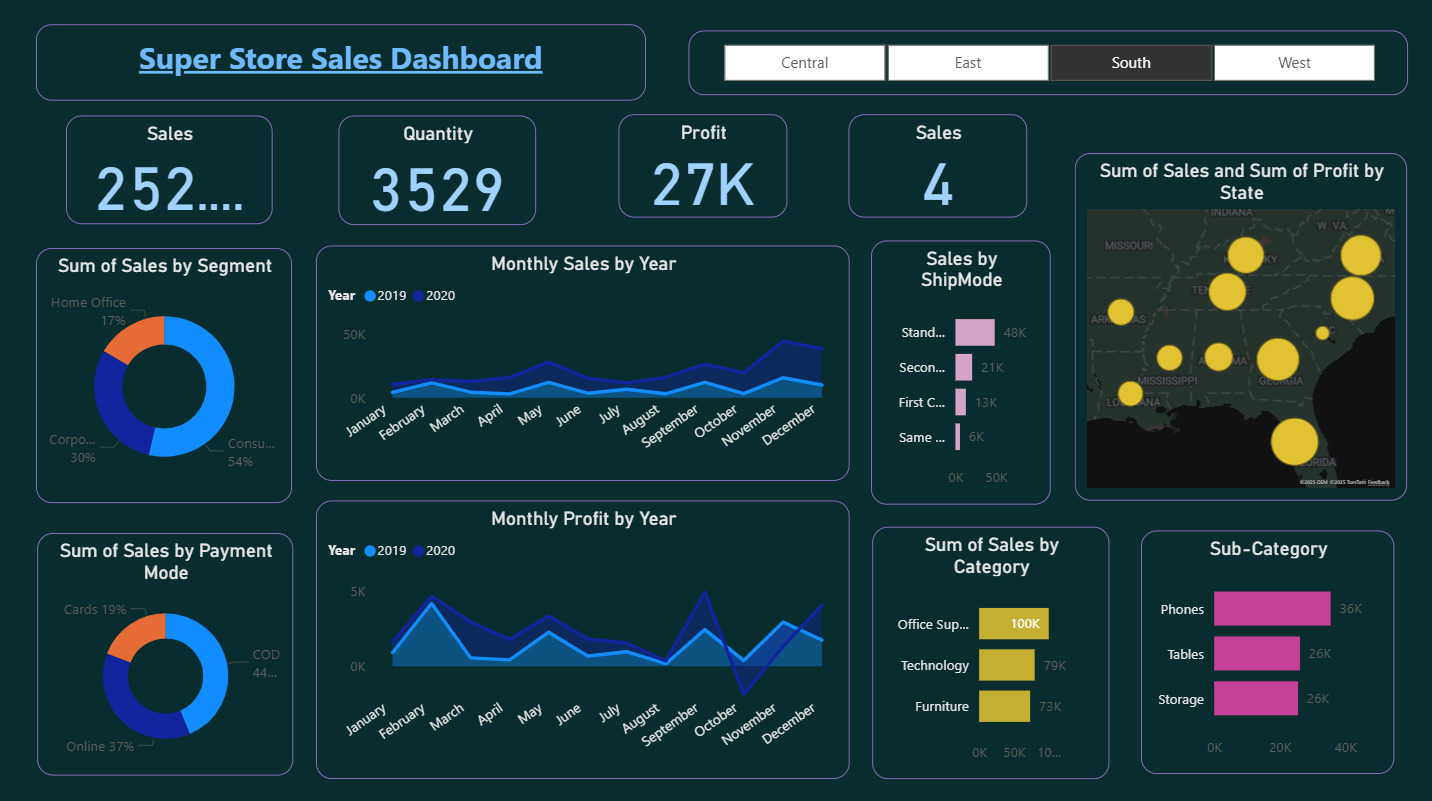

Layout of this report page (visuals, bound fields, positions):
{"tool":"powerbi","page":{"name":"Page 1","canvas":[1280,720],"ordinal":0},"visuals":[{"type":"clusteredBarChart","fields":{"Category":["SuperStore_Sales_Dataset.Category"],"Y":["Sum(SuperStore_Sales_Dataset.Sales)"]},"box":[780.3,470.9,211.5,224.9],"z":0},{"type":"clusteredBarChart","title":"Sub-Category","fields":{"Category":["SuperStore_Sales_Dataset.Sub-Category"],"Y":["Sum(SuperStore_Sales_Dataset.Sales)"]},"box":[1019.7,474.2,226,217.1],"z":1000},{"type":"clusteredBarChart","title":"Sales by ShipMode","fields":{"Category":["SuperStore_Sales_Dataset.Ship Mode"],"Y":["Sum(SuperStore_Sales_Dataset.Sales)"]},"box":[779.2,216,160.3,234.9],"z":2000},{"type":"stackedAreaChart","title":"Monthly Sales by Year","fields":{"Y":["Sum(SuperStore_Sales_Dataset.Sales)"],"Category":["SuperStore_Sales_Dataset.Order Date.Variation.Date Hierarchy.Month","SuperStore_Sales_Dataset.Order Date.Variation.Date Hierarchy.Day"],"Series":["SuperStore_Sales_Dataset.Order Date.Variation.Date Hierarchy.Year"]},"box":[285,220.4,475.3,209.3],"z":3000},{"type":"stackedAreaChart","title":"Monthly Profit by Year","fields":{"Category":["SuperStore_Sales_Dataset.Order Date.Variation.Date Hierarchy.Month","SuperStore_Sales_Dataset.Order Date.Variation.Date Hierarchy.Day"],"Series":["SuperStore_Sales_Dataset.Order Date.Variation.Date Hierarchy.Year"],"Y":["Sum(SuperStore_Sales_Dataset.Profit)"]},"box":[285,447.5,475.3,248.2],"z":4000},{"type":"azureMap","fields":{"Category":["SuperStore_Sales_Dataset.State"],"Size":["Sum(SuperStore_Sales_Dataset.Sales)"]},"box":[960.7,138,296.1,309.5],"z":5000},{"type":"donutChart","fields":{"Category":["SuperStore_Sales_Dataset.Segment"],"Y":["Sum(SuperStore_Sales_Dataset.Sales)"]},"box":[35.6,222.6,228.2,227.1],"z":6000},{"type":"donutChart","fields":{"Category":["SuperStore_Sales_Dataset.Payment Mode"],"Y":["Sum(SuperStore_Sales_Dataset.Sales)"]},"box":[36.7,476.4,228.2,216],"z":7000},{"type":"slicer","fields":{"Values":["SuperStore_Sales_Dataset.Region"]},"box":[616.7,28.9,641.2,57.9],"z":8000},{"type":"textbox","box":[35.6,23.4,543.2,67.9],"z":9000},{"type":"card","title":"Sales","fields":{"Values":["Sum(SuperStore_Sales_Dataset.Sales)"]},"box":[62.3,104.6,183.7,96.8],"z":10000},{"type":"card","title":"Quantity","fields":{"Values":["Sum(SuperStore_Sales_Dataset.Quantity)"]},"box":[305,104.6,175.9,98],"z":11000},{"type":"card","title":"Profit","fields":{"Values":["Sum(SuperStore_Sales_Dataset.Profit)"]},"box":[554.4,103.5,150.3,92.4],"z":12000},{"type":"card","title":"Sales","fields":{"Values":["Avg(SuperStore_Sales_Dataset.AvgDelivery)"]},"box":[759.2,103.5,159.2,92.4],"z":13000}]}

Visuals, with their boxes in screenshot pixels (x1, y1, x2, y2), scaled from the page's 1280x720 canvas onto the 1432x801 screenshot:
clusteredBarChart - SuperStore_Sales_Dataset.Category x Sum(SuperStore_Sales_Dataset.Sales): <box>873,524,1110,774</box>
"Sub-Category" clusteredBarChart: <box>1141,528,1394,769</box>
"Sales by ShipMode" clusteredBarChart: <box>872,240,1051,502</box>
"Monthly Sales by Year" stackedAreaChart: <box>319,245,851,478</box>
"Monthly Profit by Year" stackedAreaChart: <box>319,498,851,774</box>
azureMap - SuperStore_Sales_Dataset.State x Sum(SuperStore_Sales_Dataset.Sales): <box>1075,154,1406,498</box>
donutChart - SuperStore_Sales_Dataset.Segment x Sum(SuperStore_Sales_Dataset.Sales): <box>40,248,295,500</box>
donutChart - SuperStore_Sales_Dataset.Payment Mode x Sum(SuperStore_Sales_Dataset.Sales): <box>41,530,296,770</box>
slicer - SuperStore_Sales_Dataset.Region: <box>690,32,1407,97</box>
textbox: <box>40,26,648,102</box>
"Sales" card: <box>70,116,275,224</box>
"Quantity" card: <box>341,116,538,225</box>
"Profit" card: <box>620,115,788,218</box>
"Sales" card: <box>849,115,1027,218</box>
